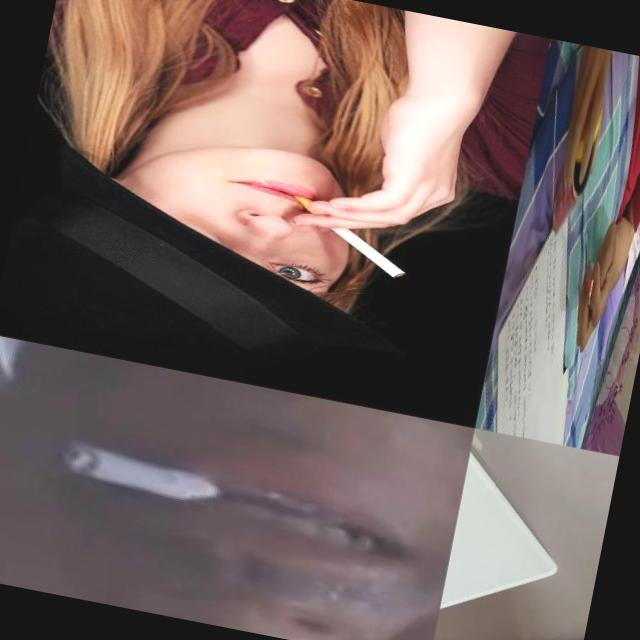smoke: (58, 439, 238, 511), (282, 192, 417, 281), (586, 278, 595, 306)
